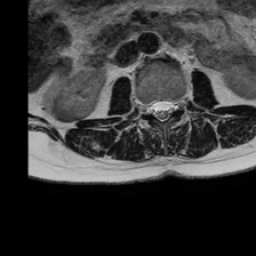CCS_normal: (158, 91, 166, 129)
LFS_normal: (174, 90, 182, 116)
LLS_normal: (166, 92, 174, 122)
RFS_normal: (141, 93, 149, 119)
RLS_normal: (149, 93, 158, 121)
